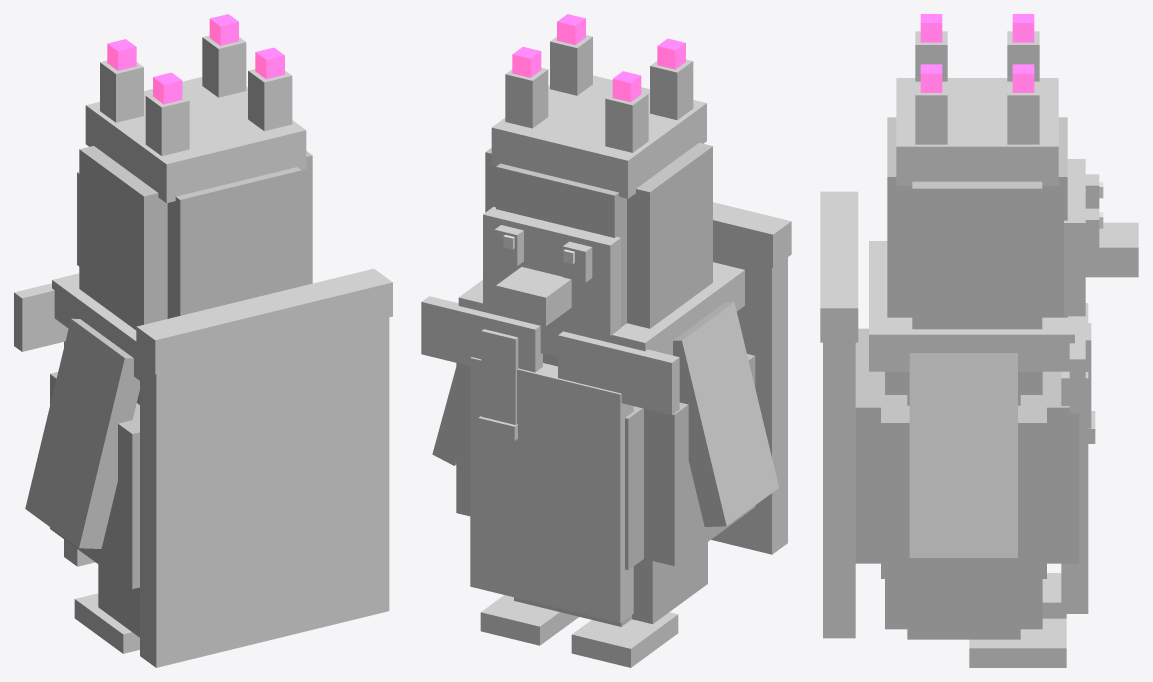
The model's file is EmperorPenguin.fbx.
3 views of the same model, side by side, from view 1: azimuth 30°, elevation 25°; view 2: azimuth 150°, elevation 25°; view 3: azimuth 270°, elevation 25° (orthographic). The views are drawn at different scales.
Visible parts, largest first — view 1: Emperor Penguin_body_35, Emperor Penguin_wingL_20, Emperor Penguin_head_26, Emperor Penguin_body_36, Emperor Penguin_head_12, Emperor Penguin_head_11, Emperor Penguin_head_9, Emperor Penguin_head_10, Emperor Penguin_body_23, Emperor Penguin_body_2, Emperor Penguin_body_38, Emperor Penguin_head_29 (+10 smaller); view 2: Emperor Penguin_body_8, Emperor Penguin_wingL_20, Emperor Penguin_head_26, Emperor Penguin_body_35, Emperor Penguin_head_13, Emperor Penguin_head_11, Emperor Penguin_body_38, Emperor Penguin_head_12, Emperor Penguin_body_2, Emperor Penguin_body_23, Emperor Penguin_body_37, Emperor Penguin_head_9 (+21 smaller); view 3: Emperor Penguin_wingR_19, Emperor Penguin_head_26, Emperor Penguin_head_11, Emperor Penguin_body_35, Emperor Penguin_body_23, Emperor Penguin_head_9, Emperor Penguin_body_5, Emperor Penguin_body_0, Emperor Penguin_body_2, Emperor Penguin_body_4, Emperor Penguin_body_36, Emperor Penguin_head_12 (+21 smaller).
Boxes of the visible parts, <box> form: Emperor Penguin_body_35: <box>140,317,389,667</box>; Emperor Penguin_wingL_20: <box>25,318,139,548</box>; Emperor Penguin_head_26: <box>85,77,306,203</box>; Emperor Penguin_body_36: <box>136,268,392,374</box>; Emperor Penguin_head_12: <box>167,167,301,277</box>; Emperor Penguin_head_11: <box>79,146,312,273</box>; Emperor Penguin_head_9: <box>79,227,312,330</box>; Emperor Penguin_head_10: <box>167,248,301,318</box>; Emperor Penguin_body_23: <box>52,273,139,380</box>; Emperor Penguin_body_2: <box>50,498,139,588</box>; Emperor Penguin_body_38: <box>14,283,68,351</box>; Emperor Penguin_head_29: <box>202,35,246,97</box>; Emperor Penguin_body_8: <box>470,357,633,623</box>; Emperor Penguin_wingL_20: <box>673,302,779,526</box>; Emperor Penguin_head_26: <box>491,75,706,198</box>; Emperor Penguin_body_35: <box>711,253,787,554</box>; Emperor Penguin_head_13: <box>483,207,620,335</box>; Emperor Penguin_head_11: <box>485,143,712,267</box>; Emperor Penguin_body_38: <box>558,331,679,415</box>; Emperor Penguin_head_12: <box>496,163,626,266</box>; Emperor Penguin_body_2: <box>456,437,755,566</box>; Emperor Penguin_body_23: <box>458,262,744,357</box>; Emperor Penguin_body_37: <box>421,296,542,372</box>; Emperor Penguin_head_9: <box>627,222,712,328</box>; Emperor Penguin_wingR_19: <box>909,353,1017,557</box>; Emperor Penguin_head_26: <box>896,78,1058,185</box>; Emperor Penguin_head_11: <box>912,181,1042,266</box>; Emperor Penguin_body_35: <box>823,342,855,638</box>; Emperor Penguin_body_23: <box>869,241,1074,371</box>; Emperor Penguin_head_9: <box>912,266,1042,329</box>; Emperor Penguin_body_5: <box>855,328,1079,485</box>; Emperor Penguin_body_0: <box>907,579,1020,639</box>; Emperor Penguin_body_2: <box>881,501,1046,578</box>; Emperor Penguin_body_4: <box>881,371,1046,500</box>; Emperor Penguin_body_36: <box>820,191,858,342</box>; Emperor Penguin_head_12: <box>887,117,1067,254</box>.
Size of the model in its own units: 129 by 239 by 118.
